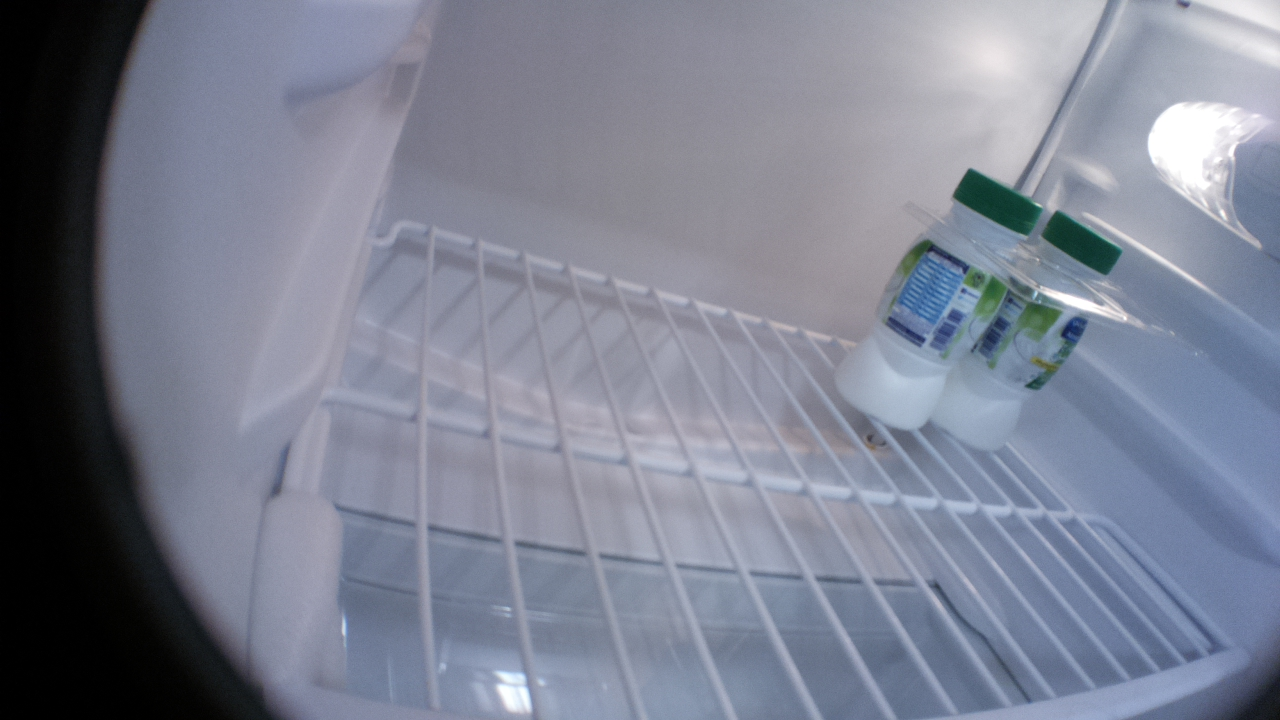laban: (822, 146, 1047, 461), (924, 209, 1141, 476)
